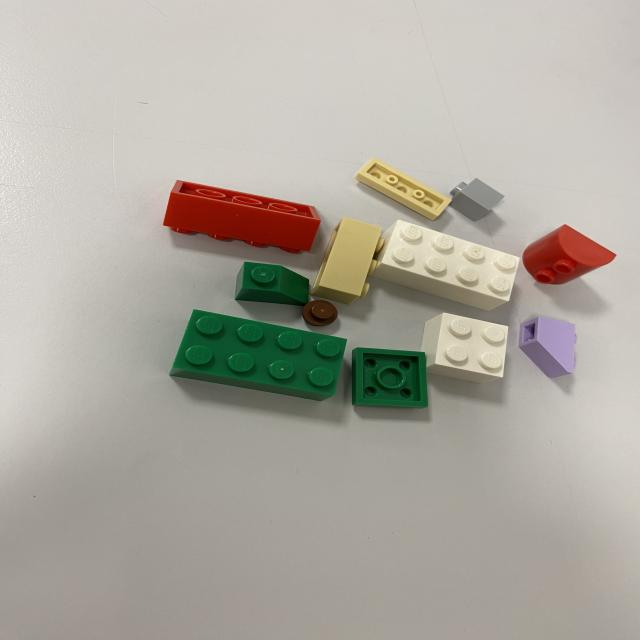C4x2x1: (171, 308, 349, 404), (372, 219, 524, 313)
